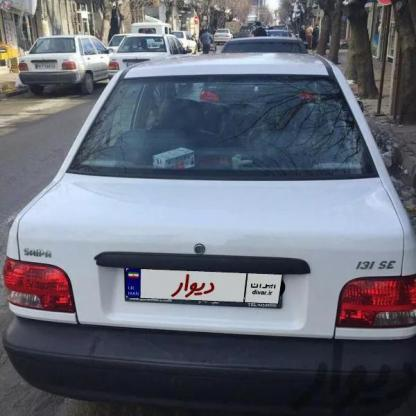Car: (0, 68, 416, 416), (200, 38, 327, 109), (21, 35, 112, 93), (108, 36, 186, 82), (171, 32, 201, 54), (212, 30, 234, 44)
